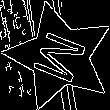M_E: (27, 25, 92, 87)
